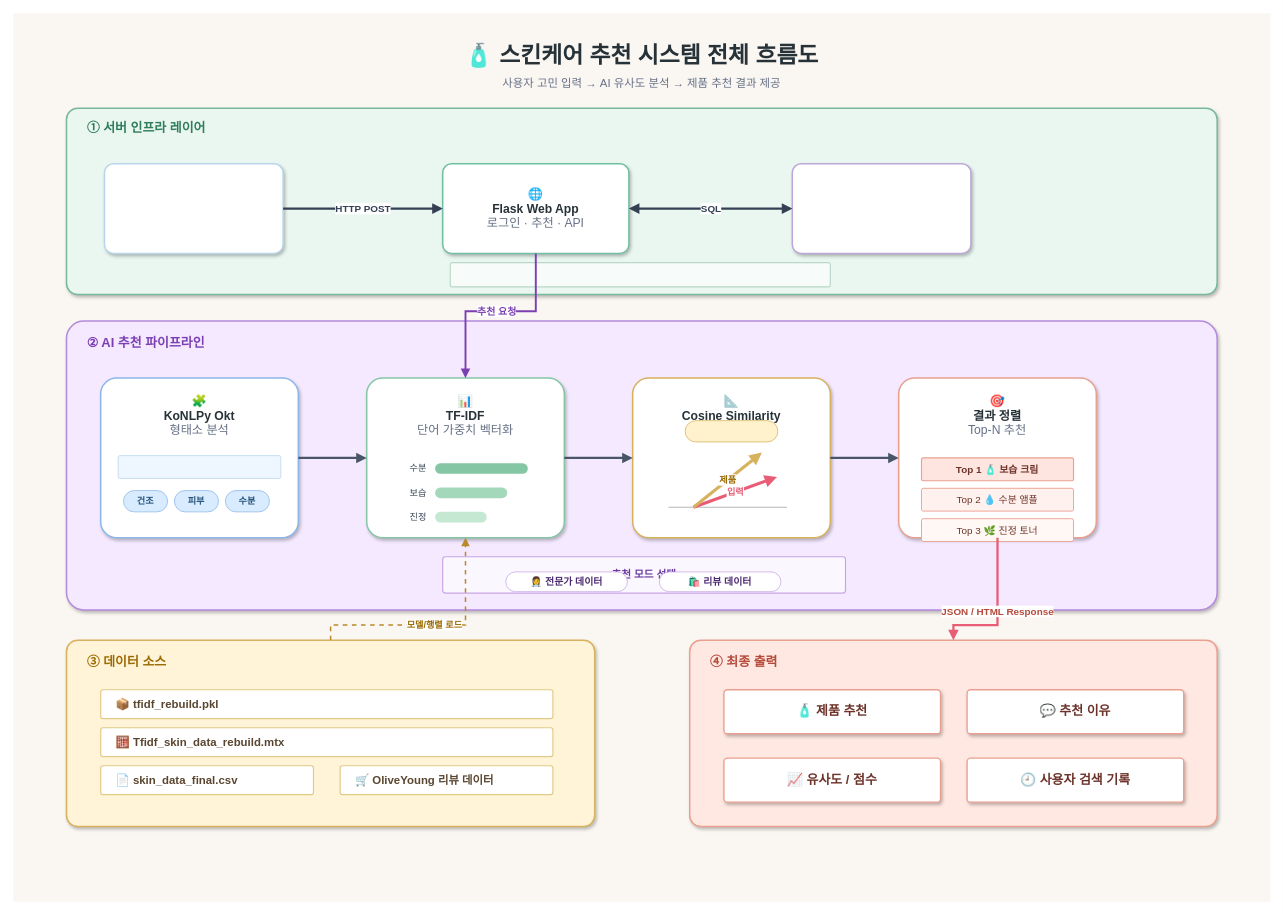
Image size: 1283x914. Some labels were removed from this diagram. Here are the shapes that lost their labels. From the top down, the centre of each, then its label:
point (194, 209): 👤 사용자 브라우저 피부 고민 입력
point (882, 209): 🗄️ SQLite DB 회원 · 검색이력
point (640, 274): 🛠️ Raspberry Pi 4 · Gunicorn · Ubuntu 22.04
point (731, 431): similarity 0.87
point (199, 466): 건조한 피부에 수분크림 추천
